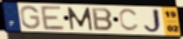B: (91, 7, 115, 32)
C: (118, 8, 140, 33)
E: (39, 5, 67, 32)
G: (20, 5, 42, 30)
J: (142, 8, 165, 35)
M: (66, 7, 94, 32)
